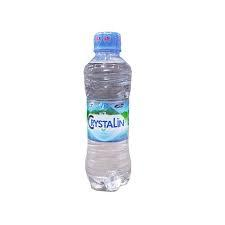BIODEGRADABLE: (79, 31, 146, 198)
